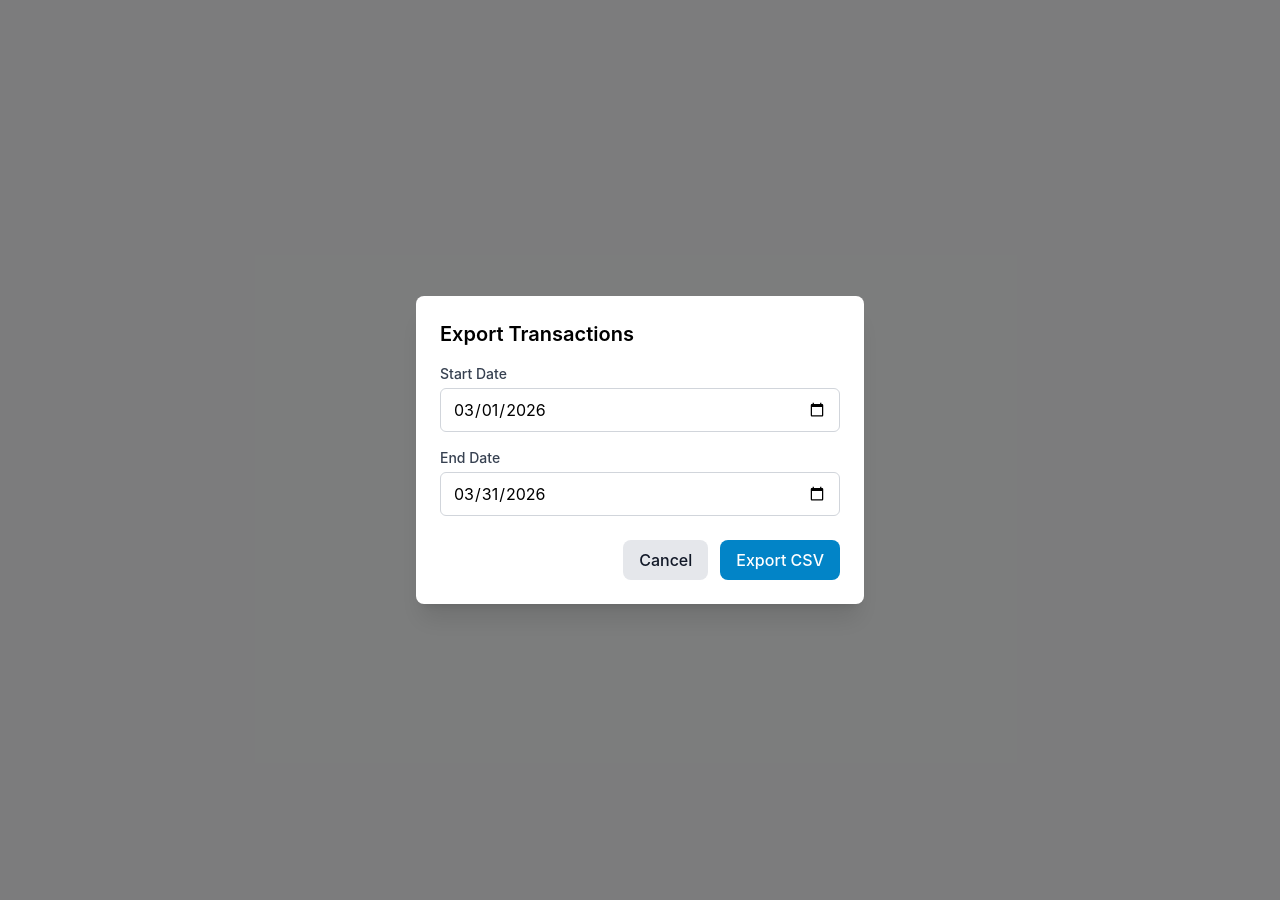
ExportModal › should show error when start date is after end date
Type "2026-02-01" into the date field below "Start Date" at (640, 410), box [440,388,840,432]
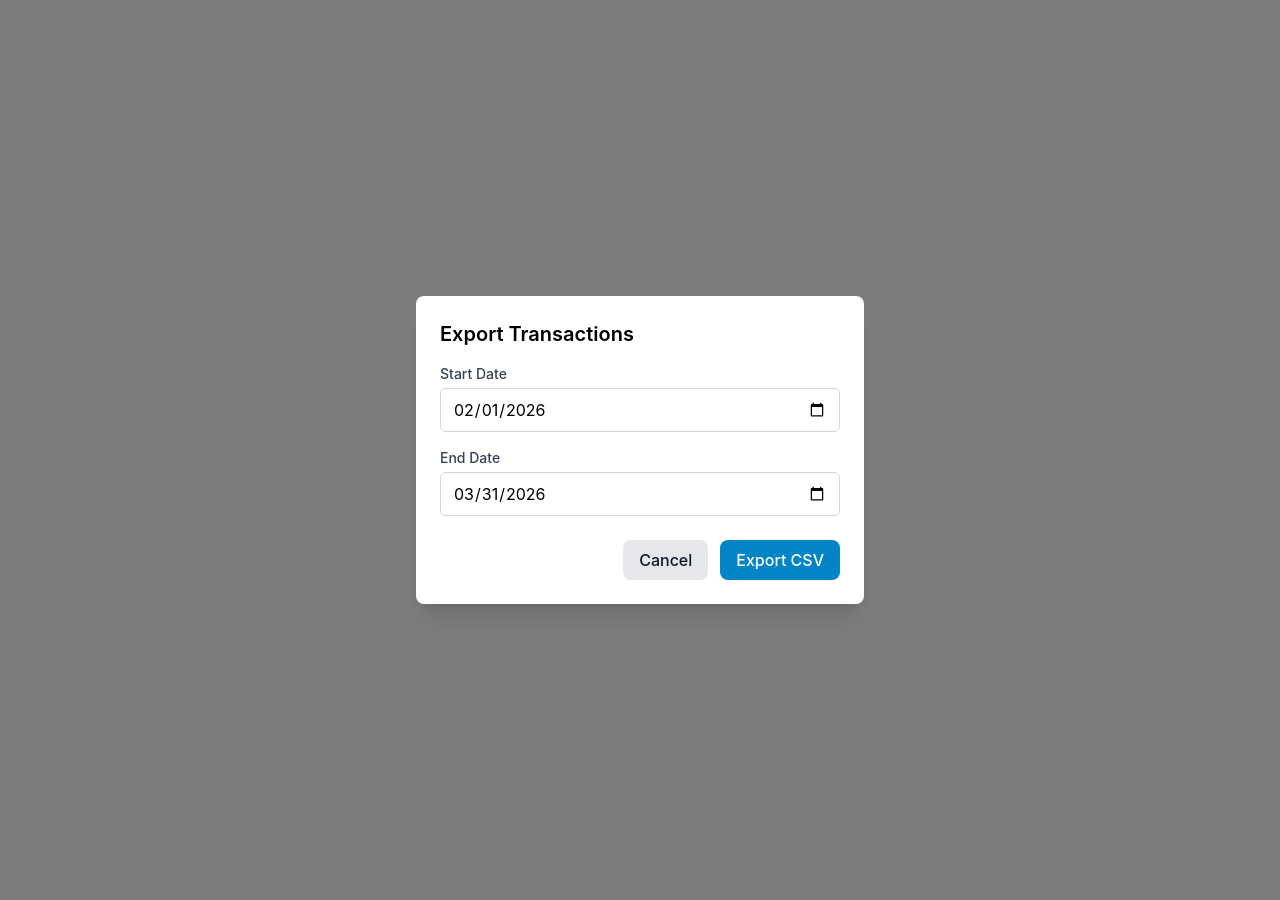
Type "2026-01-01" into the date field below "End Date" at (640, 494), box [440,472,840,516]
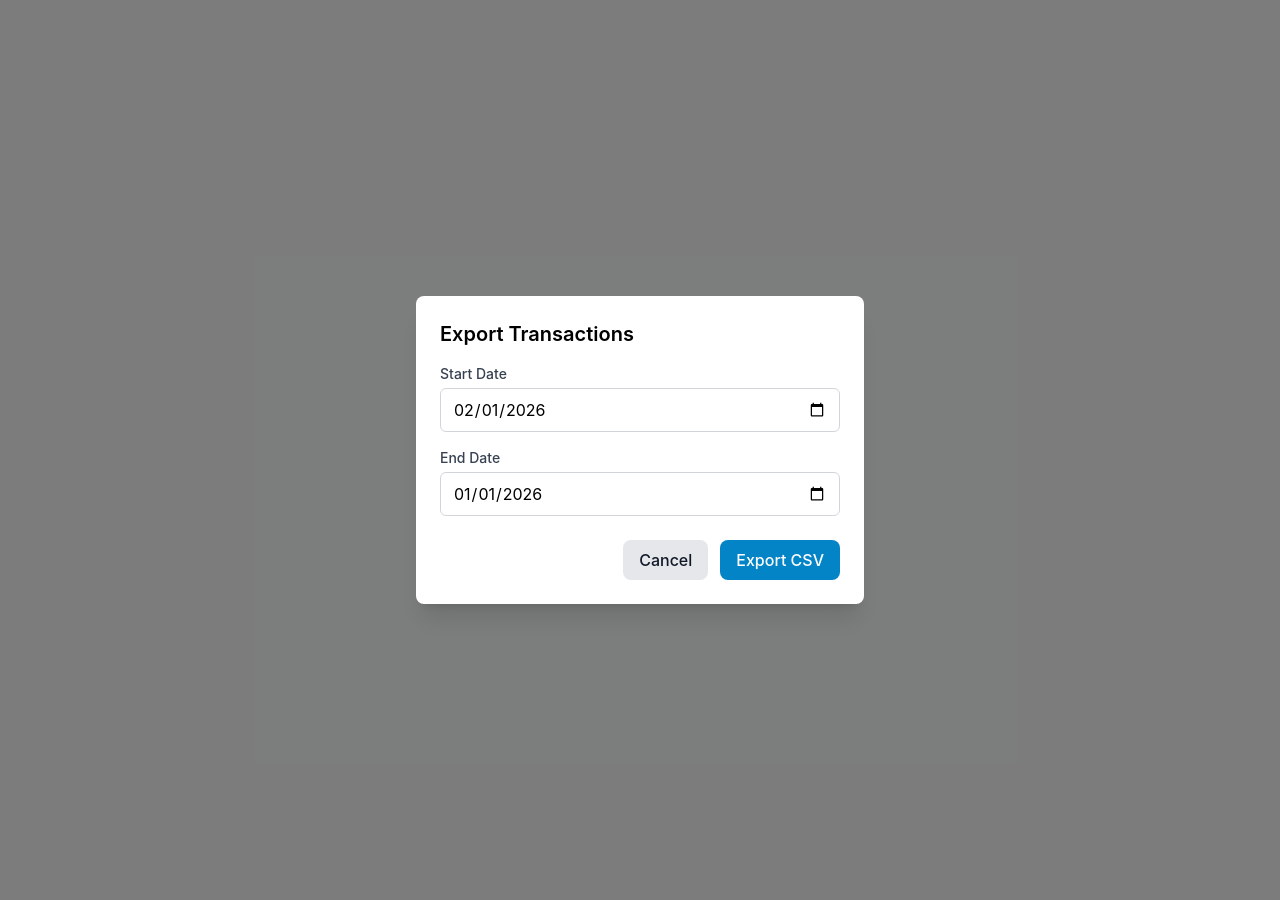
Click the button "Export CSV" at (780, 560), box [720,540,840,580]
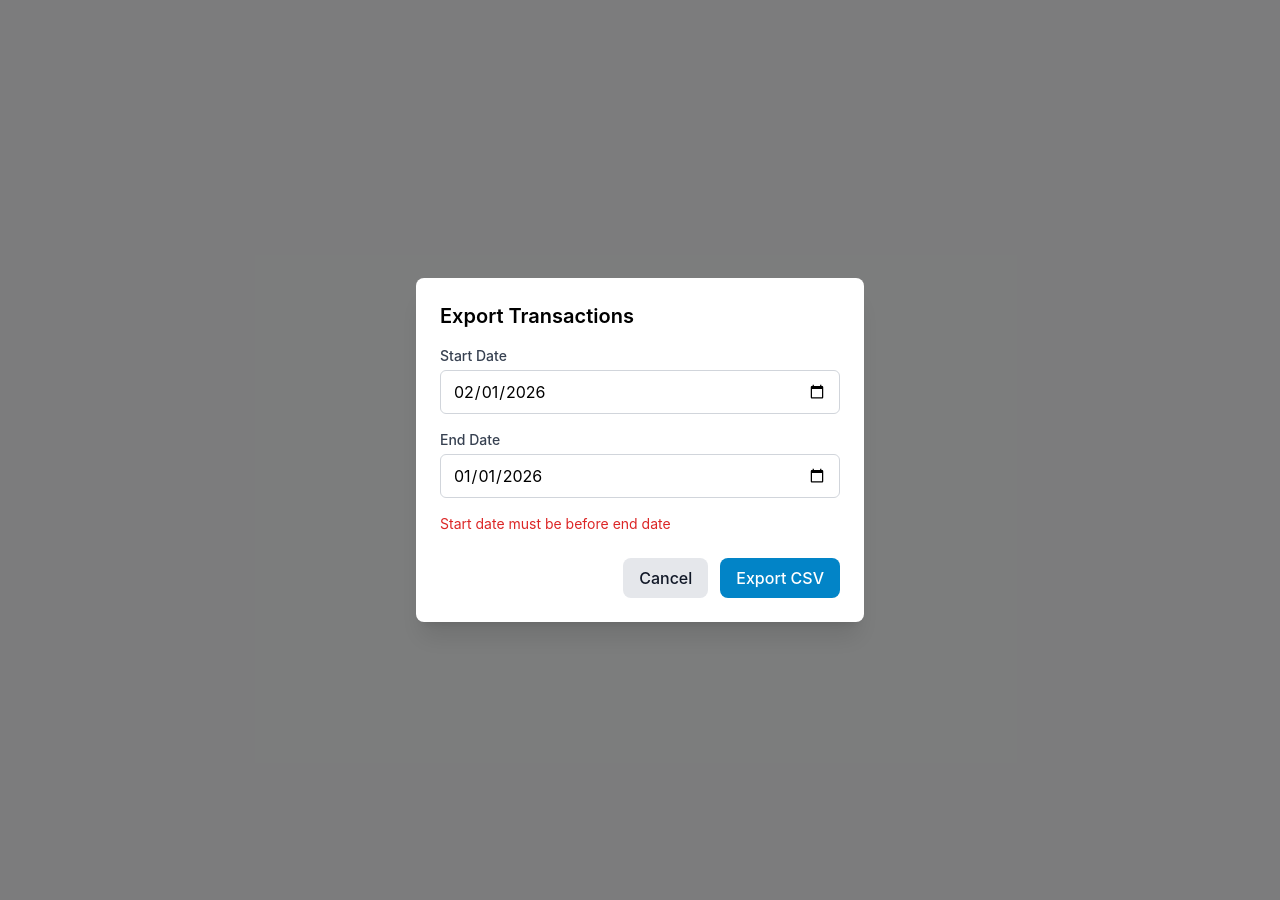
expect the text "Start date must be before end date" is shown: met, box [440,515,671,532]
